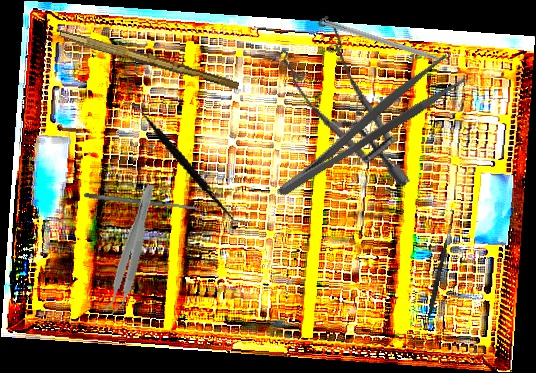Chopper: (321, 19, 461, 76)
Dressing Forceps: (264, 51, 468, 202)
Scalpel Handle: (57, 30, 241, 91)
Spatula Surgical: (99, 99, 273, 226), (423, 220, 454, 332), (84, 191, 200, 213)
Speculum: (246, 2, 460, 189)
Tissue Forceps: (101, 181, 160, 318)
